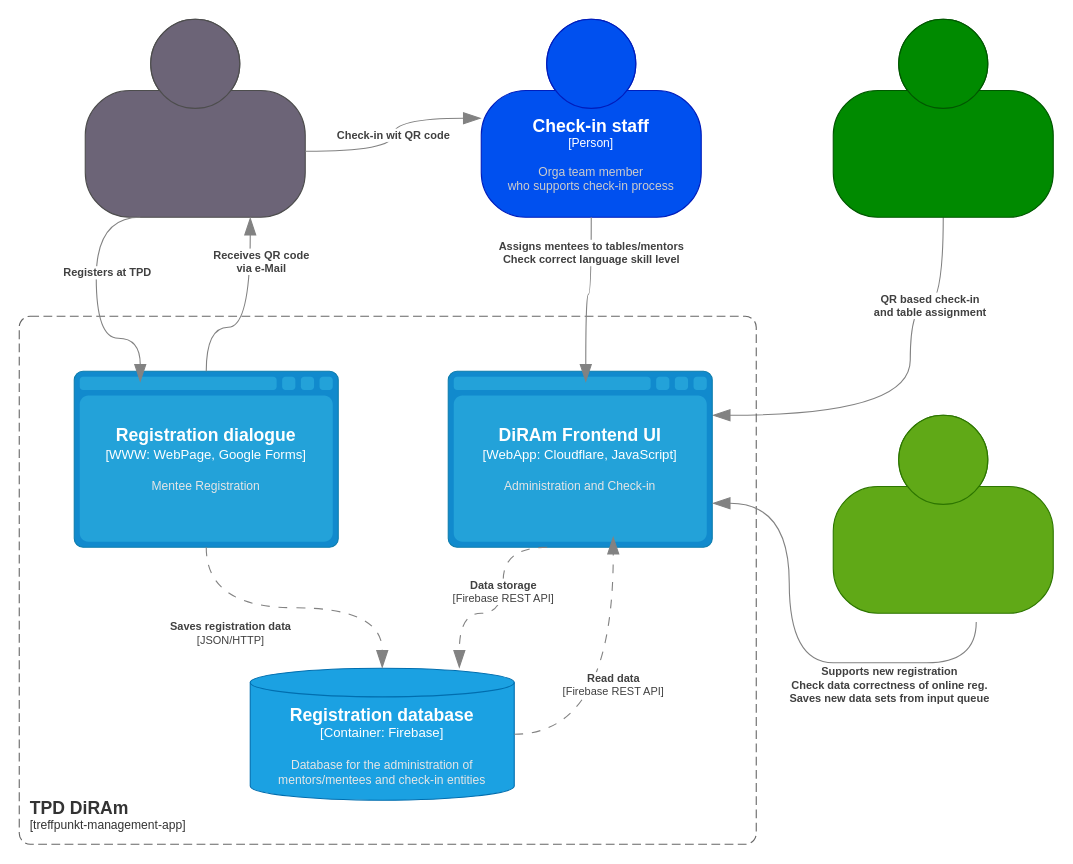
Image size: 1073x864. Some labels were removed from this diagram. Here are the shapes that lost their labels. From the top down, the centre of each, then its label:
At point 194,117: "Mentee [Person] Person who wants to learn German language".
At point 942,117: "Mentor [Person] Person who educates mentees".
At point 942,513: "Registration desk [Person] Orga Team member who supports registration".
